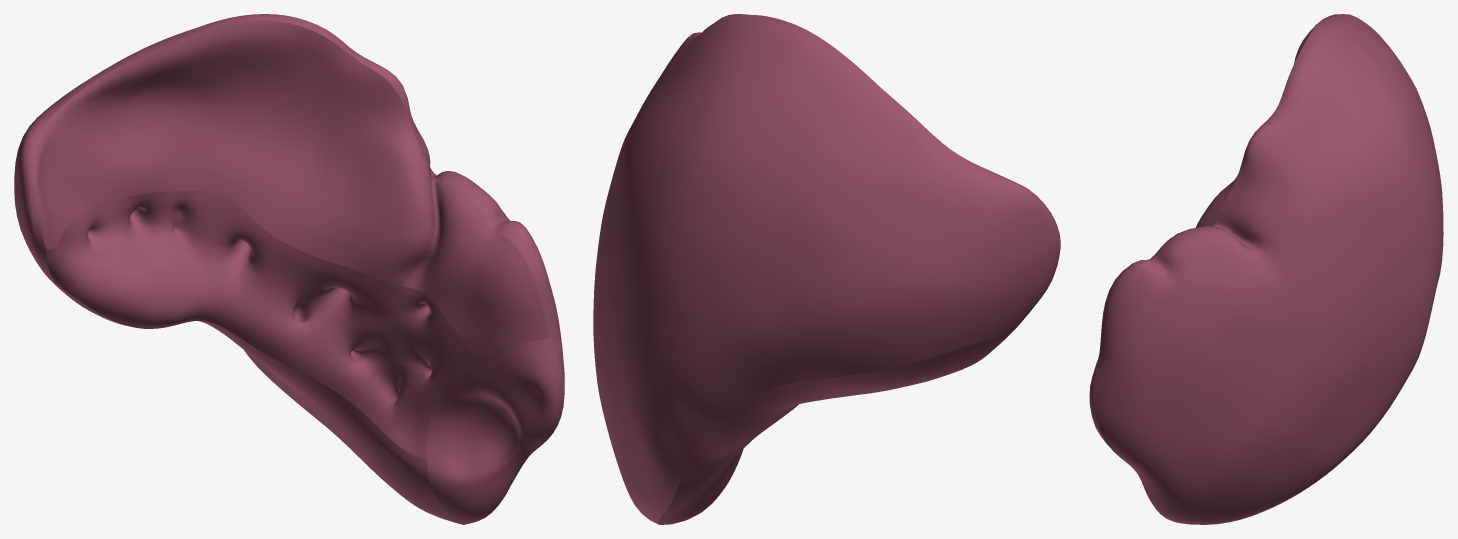
File: explorar-spleen.glb
3 renders of one model, left to right at view 1: azimuth 30°, elevation 25°; view 2: azimuth 150°, elevation 25°; view 3: azimuth 270°, elevation 25°, orthographic. The views are drawn at different scales.
Parts seen in each view (by area): view 1: spleen__superficie_gastrica, spleen__hilio, spleen__superficie_colica, spleen__superficie_diafragmatica, spleen__superficie_renal; view 2: spleen__superficie_diafragmatica, spleen__superficie_renal; view 3: spleen__superficie_diafragmatica, spleen__superficie_gastrica.
Boxes of the visible parts, left/top/right/bottom form: spleen__superficie_gastrica: left=35, top=20, right=549, bottom=359; spleen__hilio: left=45, top=190, right=477, bottom=458; spleen__superficie_colica: left=427, top=337, right=564, bottom=524; spleen__superficie_diafragmatica: left=14, top=14, right=564, bottom=504; spleen__superficie_renal: left=51, top=281, right=459, bottom=523; spleen__superficie_diafragmatica: left=593, top=14, right=1060, bottom=524; spleen__superficie_renal: left=657, top=337, right=1006, bottom=524; spleen__superficie_diafragmatica: left=1093, top=14, right=1443, bottom=524; spleen__superficie_gastrica: left=1149, top=27, right=1314, bottom=259.
Size of the model in its own units: 0.1104 by 0.1186 by 0.0886.
